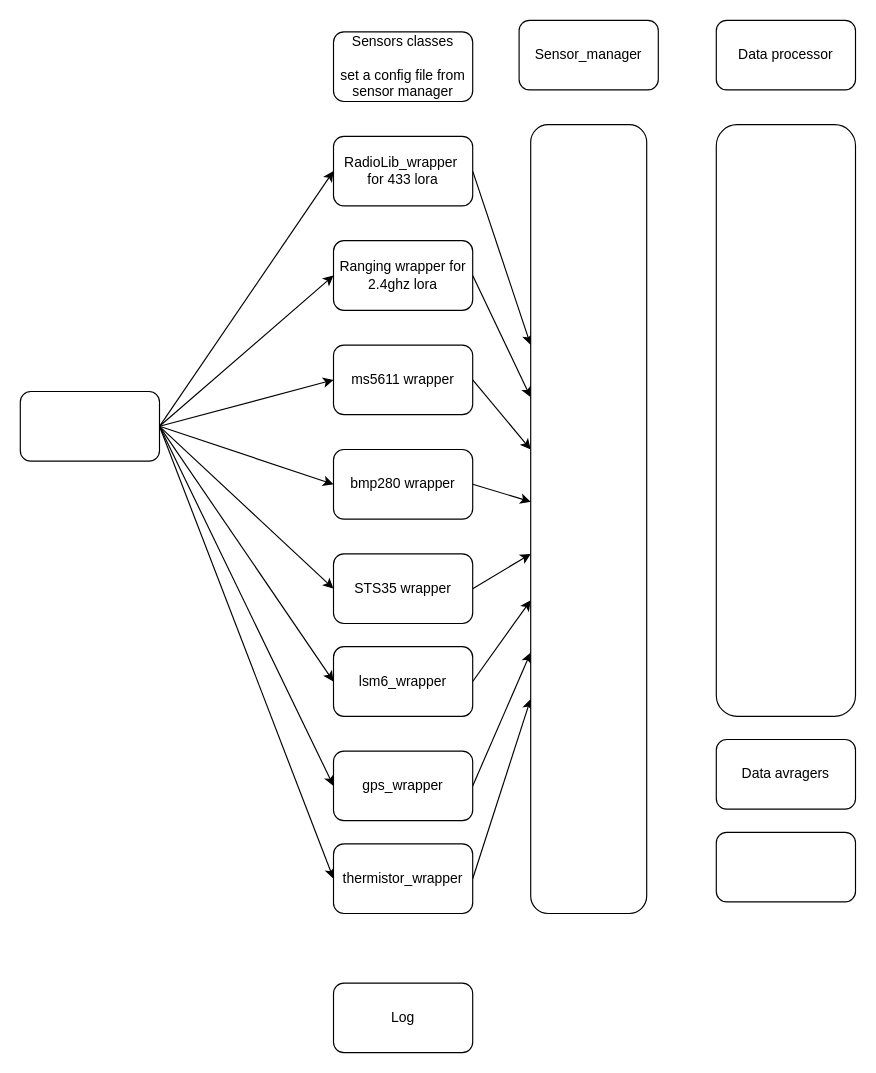
Image size: 876x1073. Some labels were removed from this diagram. The centre of each missing label's shape, as x and y in pixels:
"procceses sensor data, avereges." goes at pixel 785 420.
"Reads sensor data. and outputs the raw data" goes at pixel 588 518.
"Sensor base class (init state, basic error codes)" goes at pixel 89 425.
